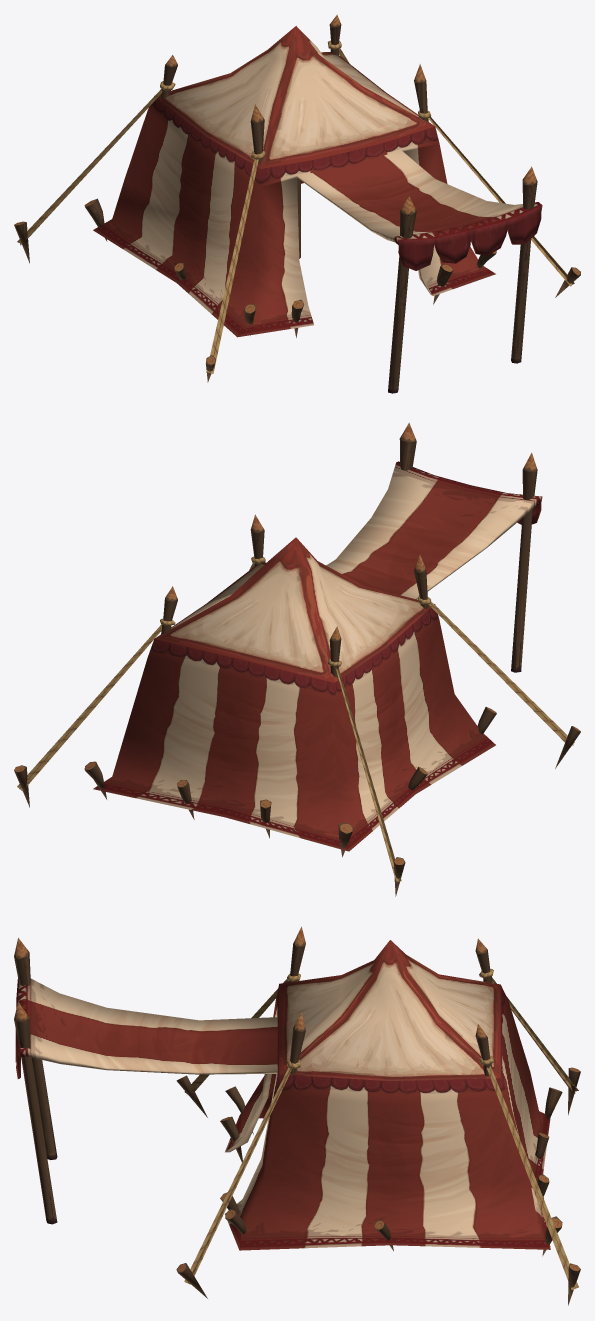
Rendered from SM_PROP_tent_big_battle_03.fbx.
3 renders of one model, top to bottom at view 1: azimuth 30°, elevation 25°; view 2: azimuth 150°, elevation 25°; view 3: azimuth 270°, elevation 25°, orthographic. The views are drawn at different scales.
Visible parts, largest first — view 1: SM_PROP_tent_big_battle_03; view 2: SM_PROP_tent_big_battle_03; view 3: SM_PROP_tent_big_battle_03.
Boxes of the visible parts, x1=… form: SM_PROP_tent_big_battle_03: x1=14, y1=14, x2=580, y2=393; SM_PROP_tent_big_battle_03: x1=14, y1=422, x2=580, y2=896; SM_PROP_tent_big_battle_03: x1=14, y1=926, x2=580, y2=1305.
Size of the model in its own units: 712 by 445 by 841.
